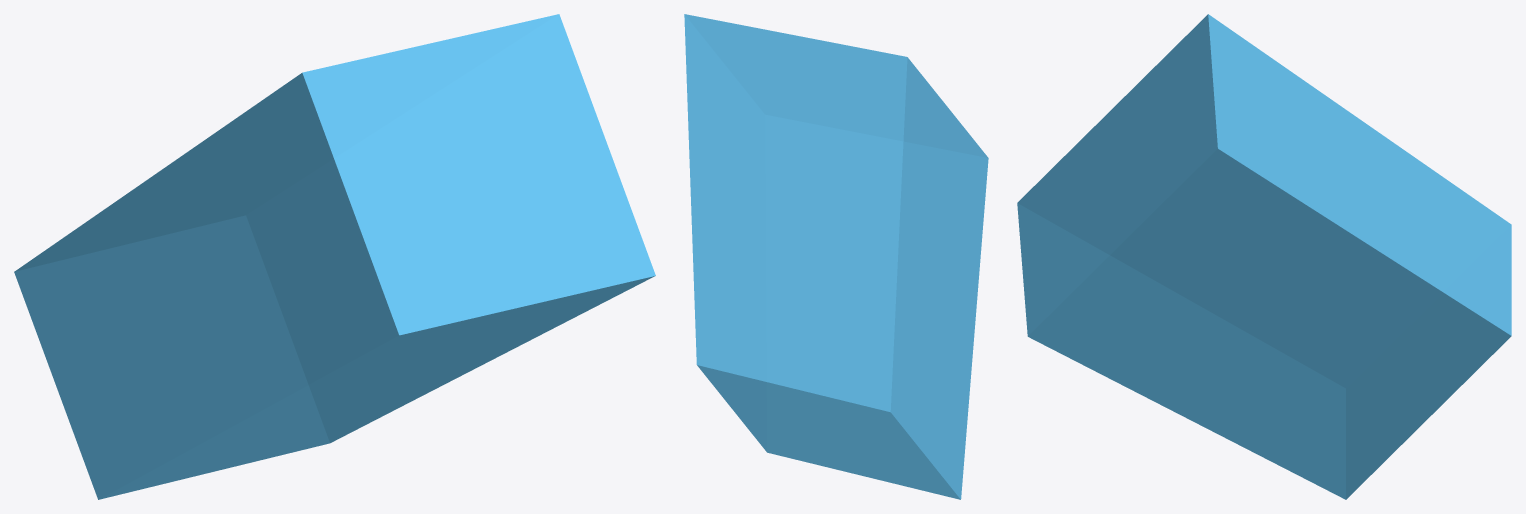
The model's file is Event_420094457_HBrechit_24.fbx.
3 renders of one model, left to right at view 1: azimuth 30°, elevation 25°; view 2: azimuth 150°, elevation 25°; view 3: azimuth 270°, elevation 25°, orthographic. The views are drawn at different scales.
Parts seen in each view (by area): view 1: Model; view 2: Model; view 3: Model.
Boxes of the visible parts, <box> form: Model: <box>14,14,655,499</box>; Model: <box>684,14,988,499</box>; Model: <box>1017,14,1511,499</box>.
Bounding box in the file's own units: 0.7373 × 0.7932 × 0.8099.
